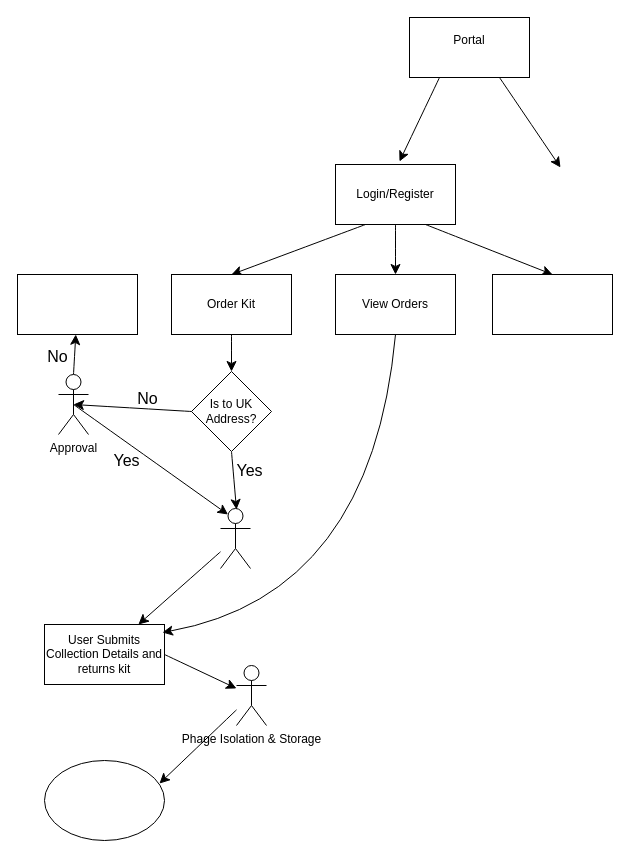
The diagram is 630 pixels wide and 858 high, and some of its shapes have lost their labels. Each missing label, with the centre of its shape:
"Kit Shipping" belongs at [235,538].
"New Phages Added!" belongs at [104,800].
"Order Cancelled" belongs at [77,304].
"View Phages" belongs at [552,304].
